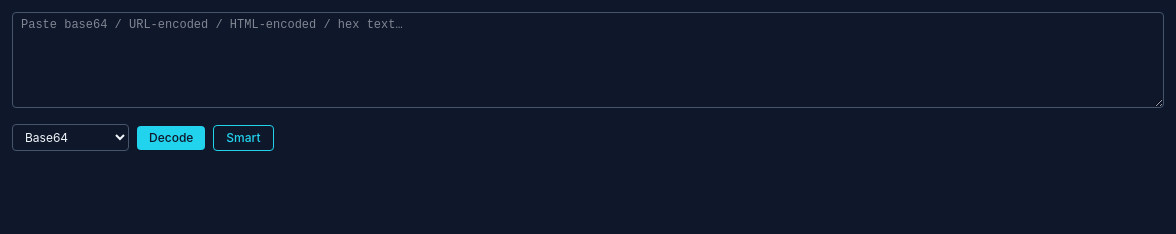
Scenario: DecoderPanel › stops after 8 layers on a self-decoding input (no infinite loop)
Type "!!!not base64!!!" into the text box with test id "decoder-panel-input".
click(588, 60); type("!!!not base64!!!")  # box [12,12,1164,108]
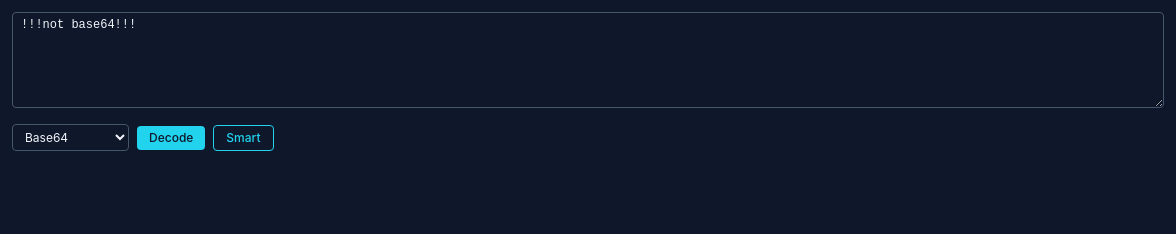
Click the button with test id "decoder-panel-smart".
click(244, 138)  # box [213,124,274,150]
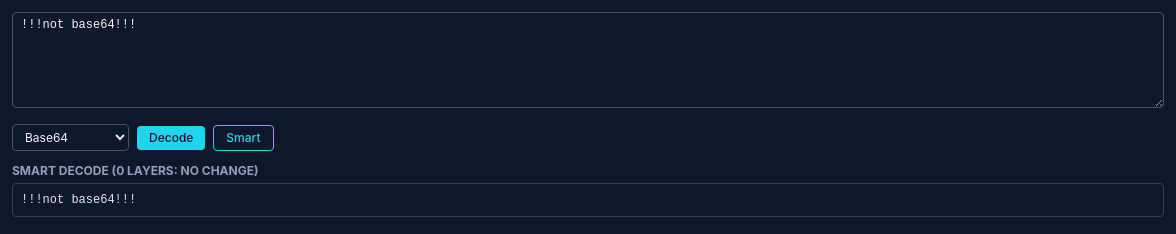
Result: the text with test id "decoder-panel-smart-layers" reads "no change" at [180,163,254,178]
